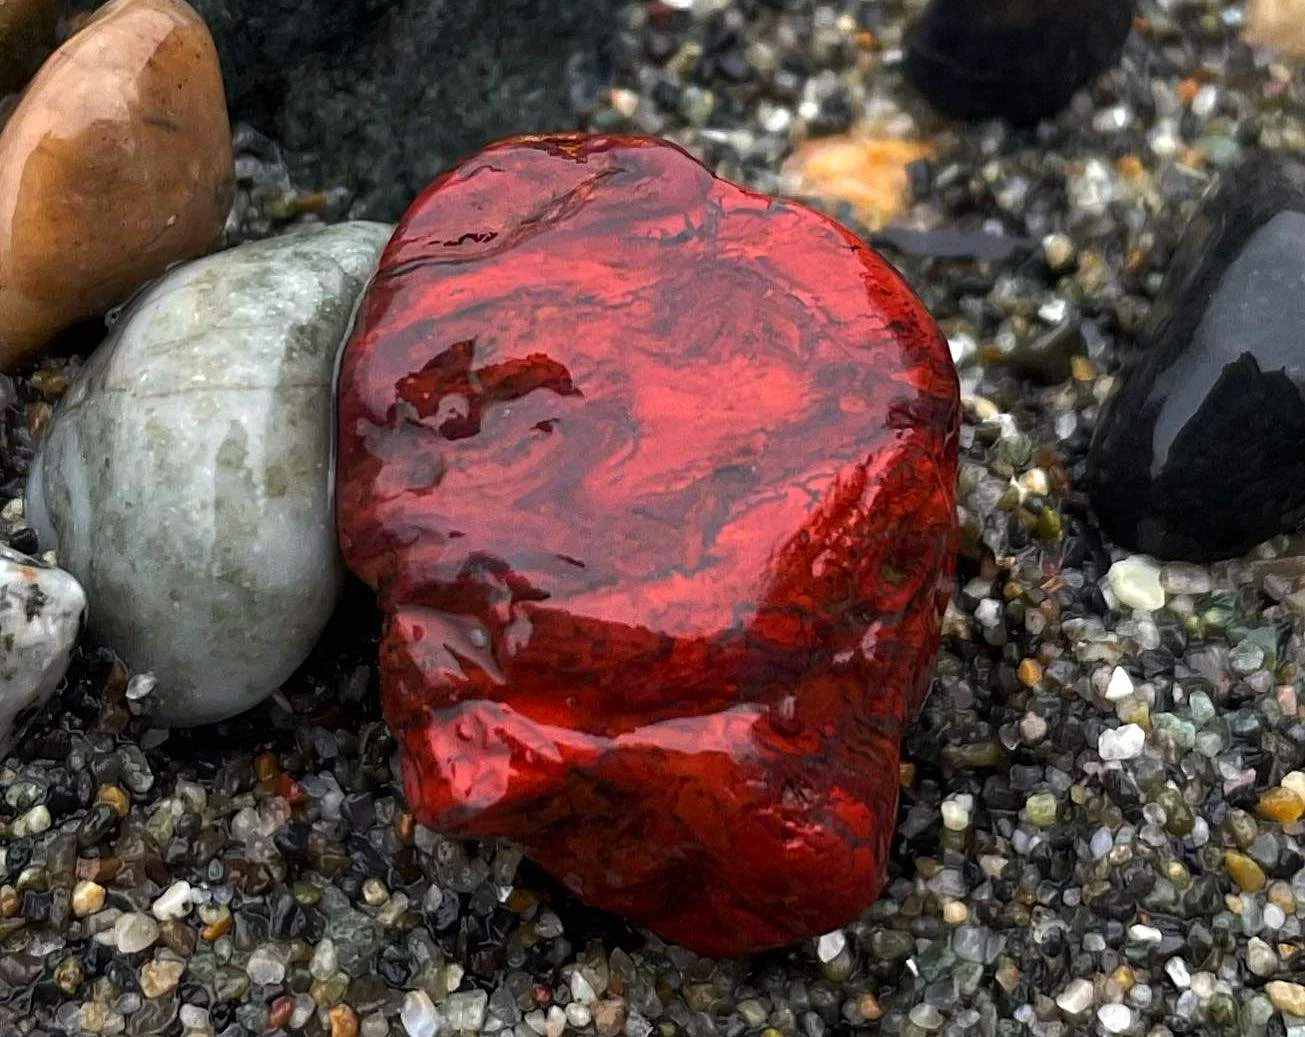Red_Jasper: (342, 132, 960, 949)
